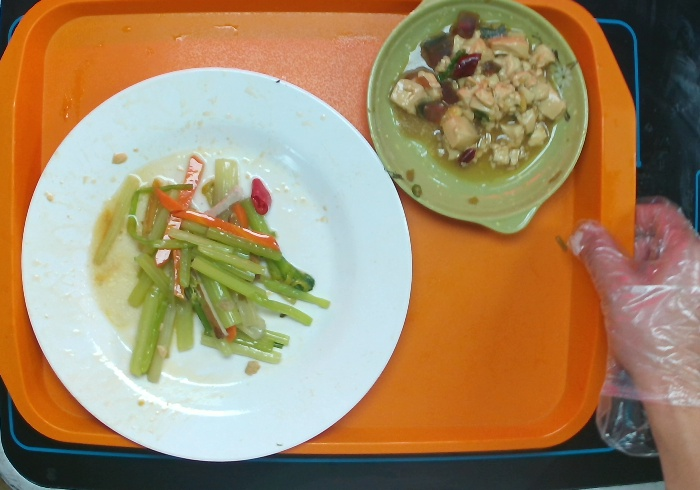NLDX-Da_Yuan_Pan: (14, 62, 426, 472)
NLDX-Lv_Hua_Shuang_Er_Die: (358, 1, 596, 236)
